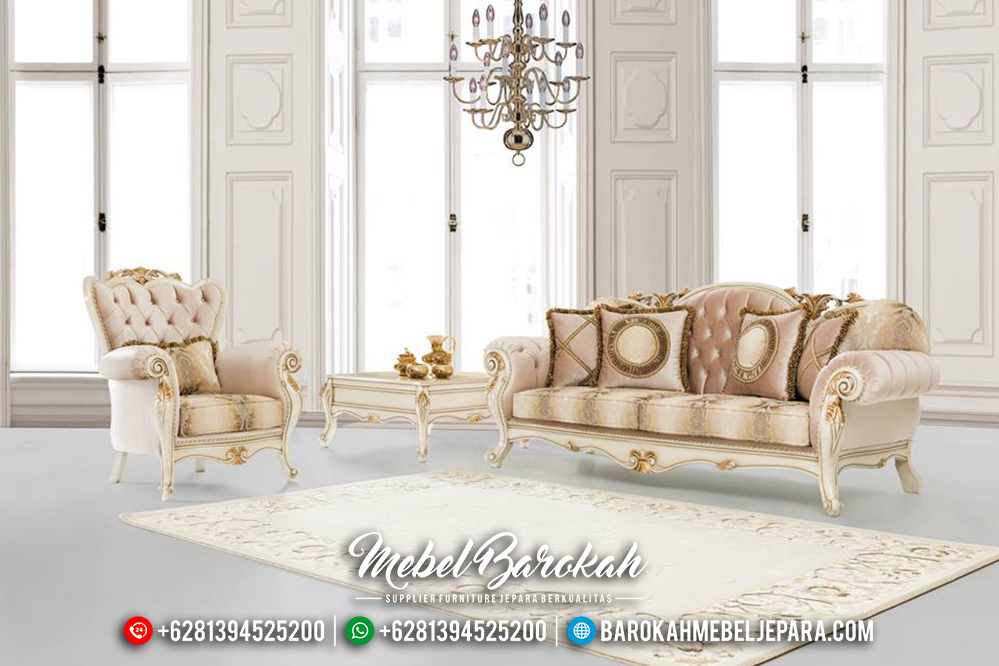Carving Chair: (505, 275, 978, 499), (86, 261, 320, 492)
